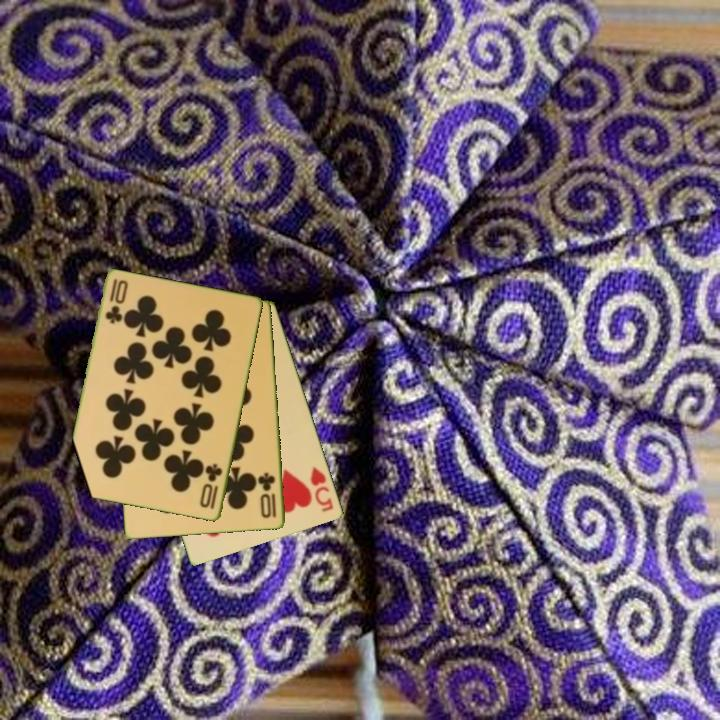10c: (197, 460, 225, 513), (102, 276, 129, 327), (256, 469, 279, 521)
5h: (307, 463, 337, 515)
